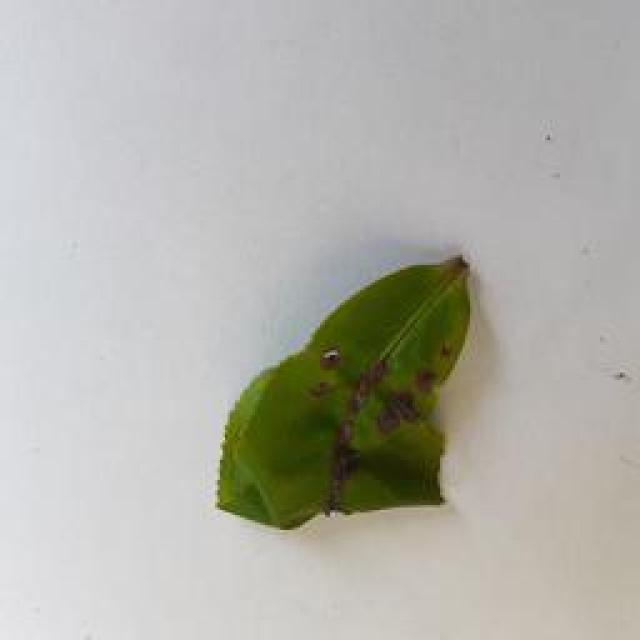Helopeltis: (214, 251, 469, 537)
